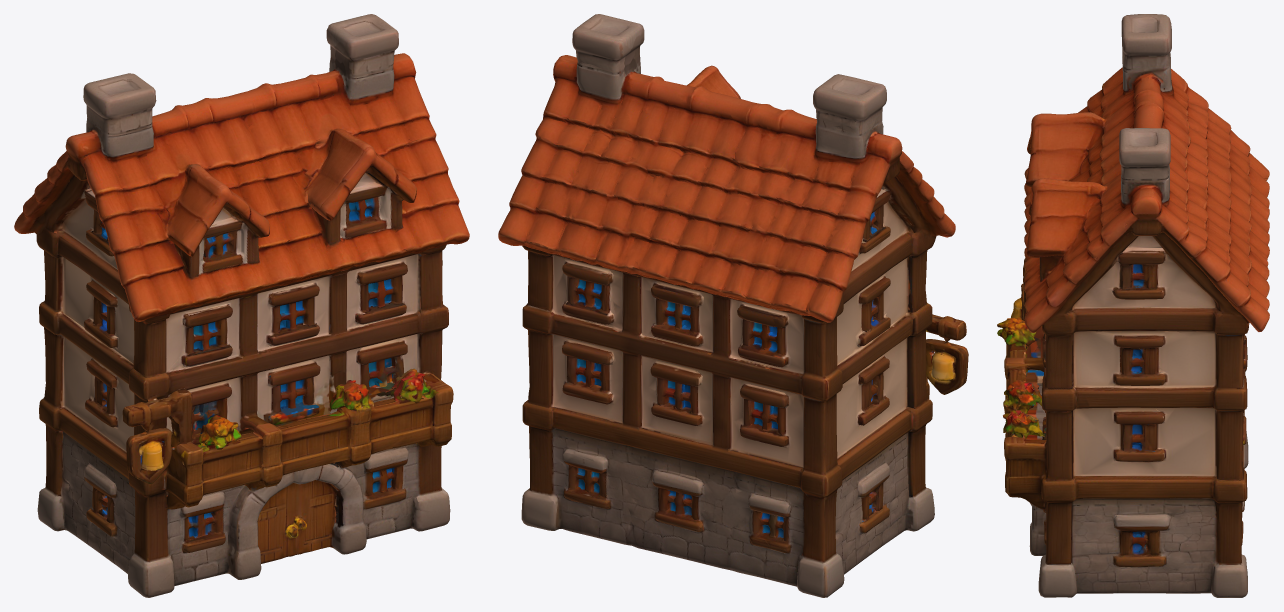
File: ck_inn.glb
3 views of the same model, side by side, from view 1: azimuth 30°, elevation 25°; view 2: azimuth 150°, elevation 25°; view 3: azimuth 270°, elevation 25° (orthographic). The views are drawn at different scales.
Visible parts, largest first — view 1: ck_inn; view 2: ck_inn; view 3: ck_inn.
Part boxes in pixels (<box>): ck_inn: <box>14,14,469,597</box>; ck_inn: <box>498,14,968,597</box>; ck_inn: <box>997,14,1269,597</box>.
Bounding box in the file's own units: 1.53 × 1.98 × 1.09.
Materials: 1 (1 with a texture image).
